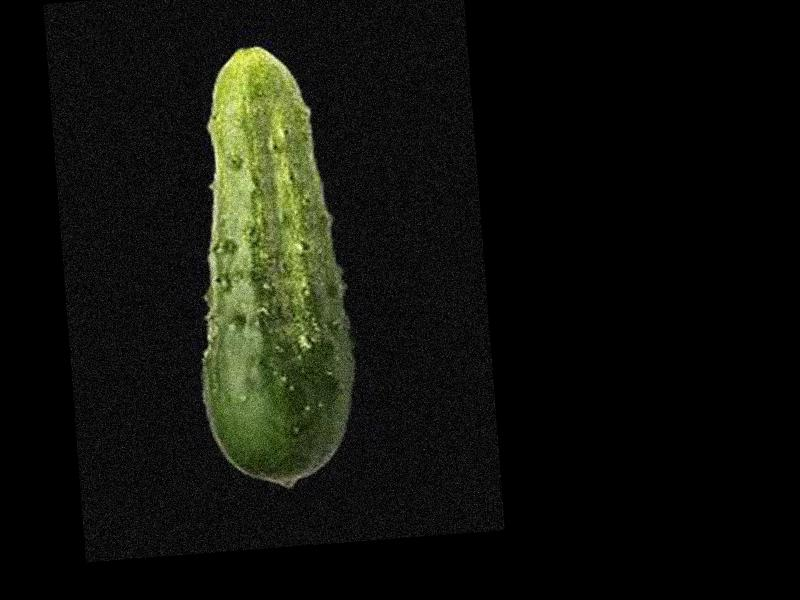Cucumber: (176, 41, 367, 493)
